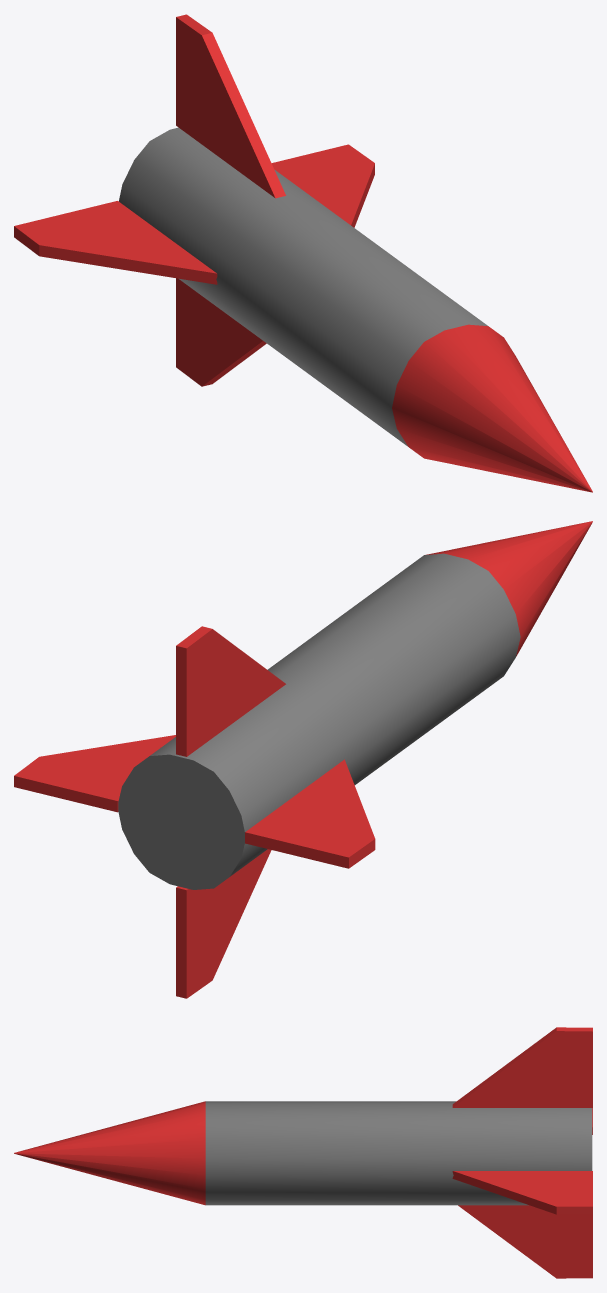
File: Missile.FBX
The picture shows the model from 3 angles, top to bottom: view 1: azimuth 30°, elevation 25°; view 2: azimuth 150°, elevation 25°; view 3: azimuth 270°, elevation 25°; orthographic projection. The views are drawn at different scales.
Parts seen in each view (by area): view 1: MissileBody01; view 2: MissileBody01; view 3: MissileBody01.
Part boxes in pixels (<box>): MissileBody01: <box>14,14,592,492</box>; MissileBody01: <box>14,521,592,998</box>; MissileBody01: <box>14,1027,592,1278</box>.
Size of the model in its own units: 15.65 by 33.18 by 15.65.
